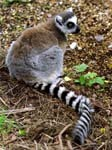cat: (4, 7, 93, 144)
